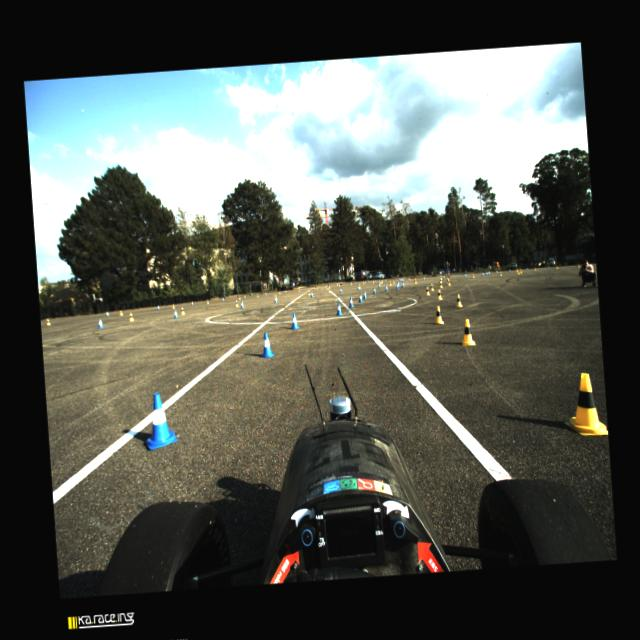blue_cone: (142, 392, 177, 449), (260, 332, 274, 357), (290, 313, 298, 328), (335, 302, 342, 314), (348, 297, 354, 307), (97, 319, 103, 328), (172, 310, 178, 318), (362, 290, 367, 298), (358, 292, 362, 302), (384, 285, 388, 291), (372, 286, 375, 294), (240, 301, 243, 308), (274, 296, 277, 302), (396, 283, 399, 289), (310, 290, 312, 296), (339, 288, 342, 292), (378, 282, 380, 288), (401, 282, 404, 286), (106, 311, 108, 316), (396, 281, 398, 286), (358, 284, 360, 289), (157, 305, 159, 309), (191, 300, 193, 304), (481, 272, 483, 276), (485, 272, 487, 276), (364, 280, 366, 284), (222, 298, 224, 300), (243, 294, 244, 298), (284, 290, 286, 292), (488, 270, 489, 274), (464, 274, 466, 276), (374, 280, 376, 282), (526, 267, 527, 270), (443, 275, 444, 278), (408, 278, 409, 281), (402, 278, 403, 281), (508, 268, 509, 271), (399, 278, 400, 281), (265, 292, 266, 294), (401, 278, 402, 280), (385, 280, 386, 282), (395, 278, 396, 280), (351, 282, 352, 284), (548, 266, 548, 268), (496, 270, 496, 273), (424, 276, 424, 280), (314, 286, 314, 288), (326, 285, 326, 287)
yellow_cone: (560, 372, 608, 436), (460, 318, 474, 346), (432, 304, 443, 324), (454, 294, 462, 308), (436, 288, 442, 300), (128, 312, 134, 321), (424, 286, 430, 294), (429, 282, 434, 290), (180, 306, 184, 314), (438, 280, 442, 288), (46, 318, 50, 325), (388, 280, 392, 286), (447, 279, 450, 286), (235, 300, 238, 306), (307, 290, 310, 294), (275, 294, 277, 300), (414, 278, 416, 284), (472, 272, 474, 278), (120, 310, 122, 315), (172, 303, 174, 308), (206, 299, 208, 304), (519, 269, 521, 274), (238, 295, 240, 299), (256, 293, 258, 297), (278, 290, 280, 294), (328, 288, 330, 292), (440, 275, 442, 279), (499, 272, 501, 276), (517, 270, 519, 274), (534, 266, 536, 270), (556, 265, 558, 269), (578, 263, 580, 267), (392, 279, 394, 283), (328, 284, 330, 288), (298, 288, 300, 291), (358, 284, 359, 288), (378, 280, 379, 284), (316, 286, 317, 289), (362, 281, 363, 284), (372, 280, 373, 283), (381, 280, 382, 282), (338, 284, 339, 286), (380, 280, 380, 284), (350, 282, 350, 285)
